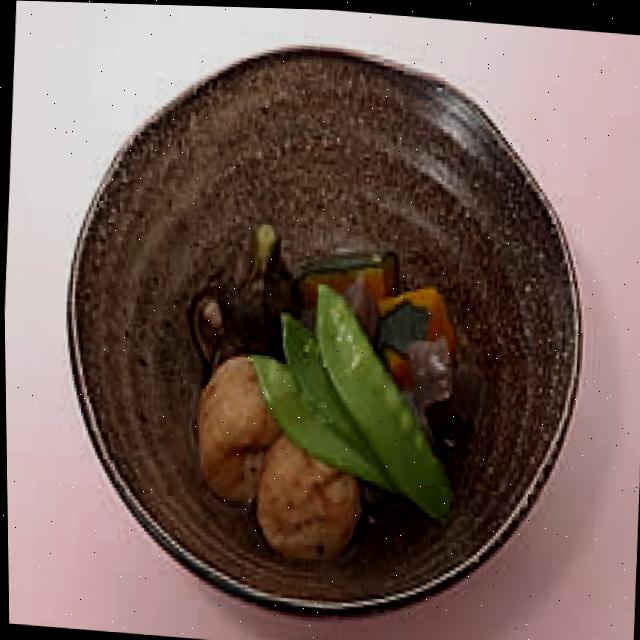熟制海鲜: (117, 185, 514, 571)
